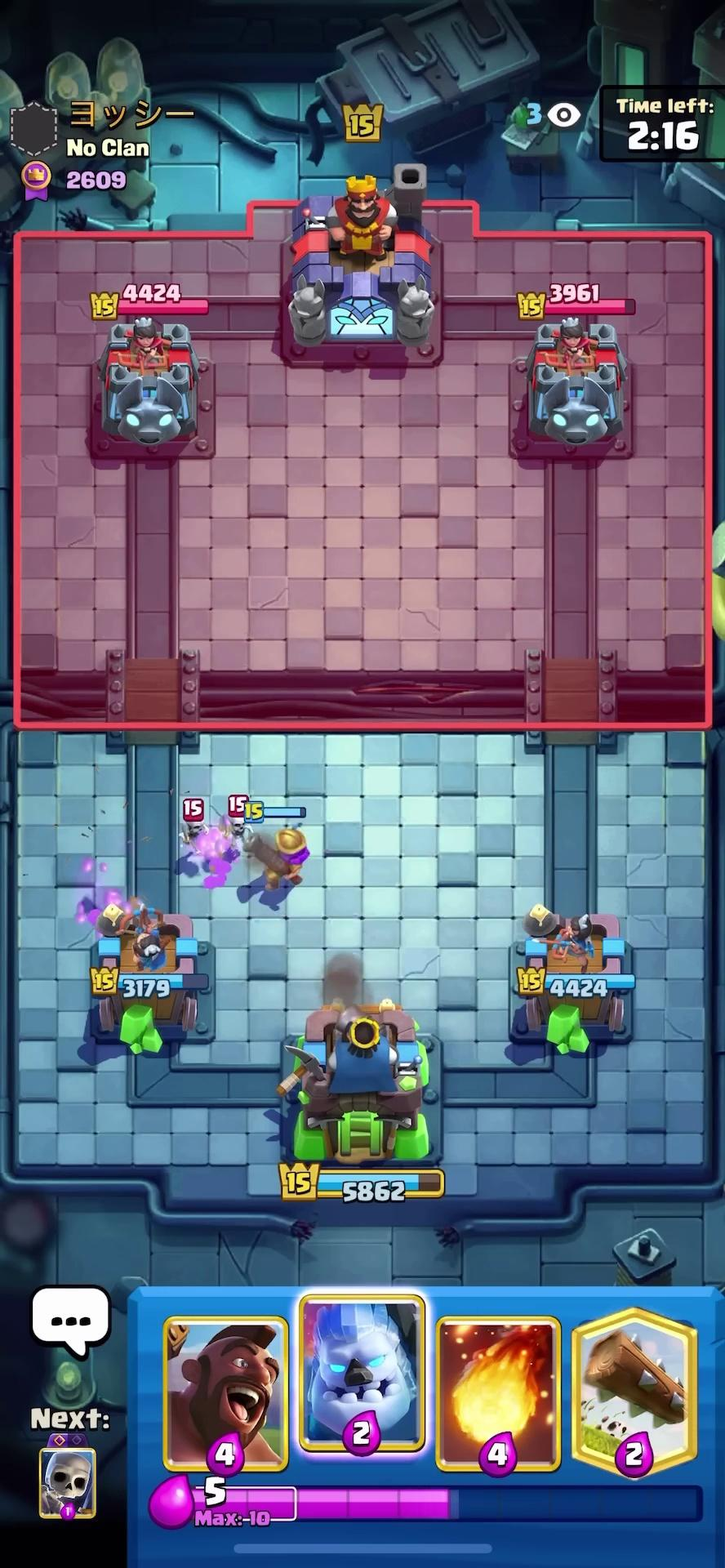musketeer: (237, 815, 320, 894)
